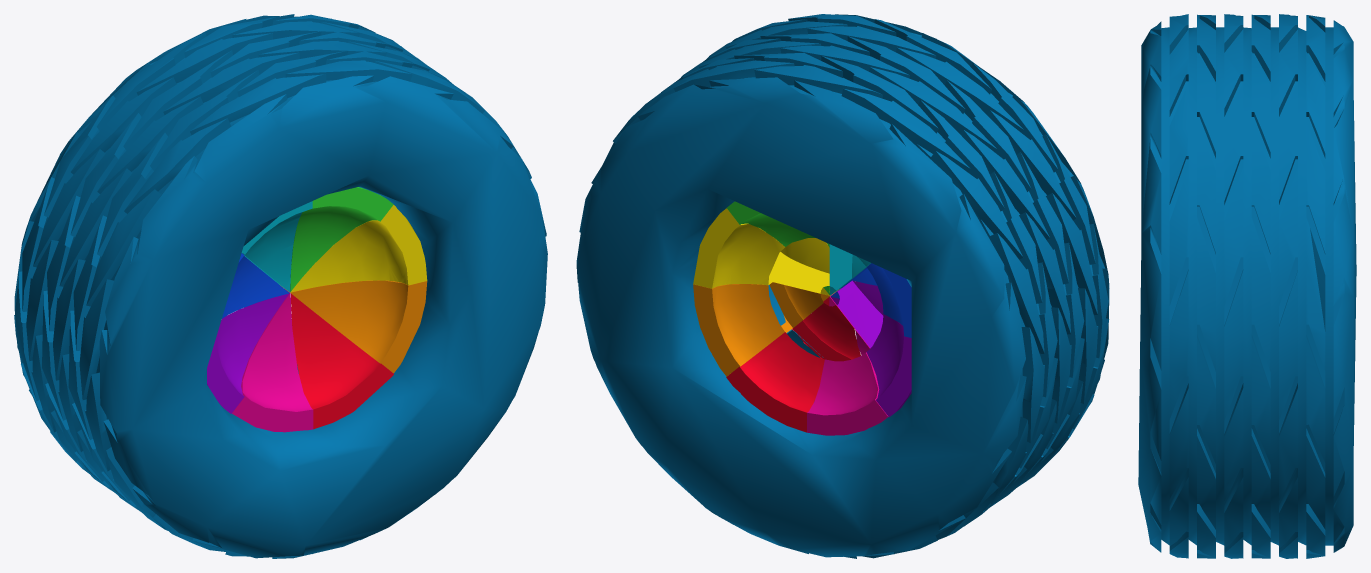
Rendered from riptide-rueda.glb.
3 views of the same model, side by side, from view 1: azimuth 30°, elevation 25°; view 2: azimuth 150°, elevation 25°; view 3: azimuth 270°, elevation 25° (orthographic). The views are drawn at different scales.
Parts seen in each view (by area): view 1: rueda; view 2: rueda; view 3: rueda.
Part boxes in pixels (bbox=[...]): rueda: bbox=[14, 14, 547, 558]; rueda: bbox=[576, 14, 1109, 558]; rueda: bbox=[1138, 14, 1356, 558].
Bounding box in the file's own units: 0.06 × 0.06 × 0.024.
